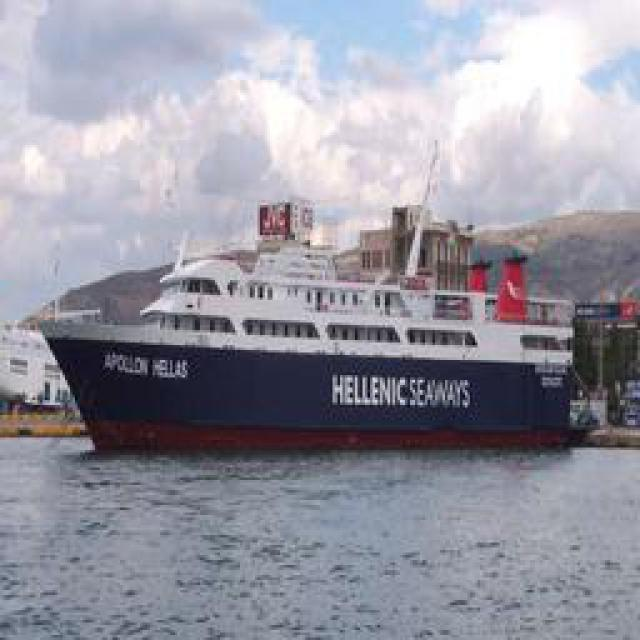Ship: (30, 194, 598, 447)
